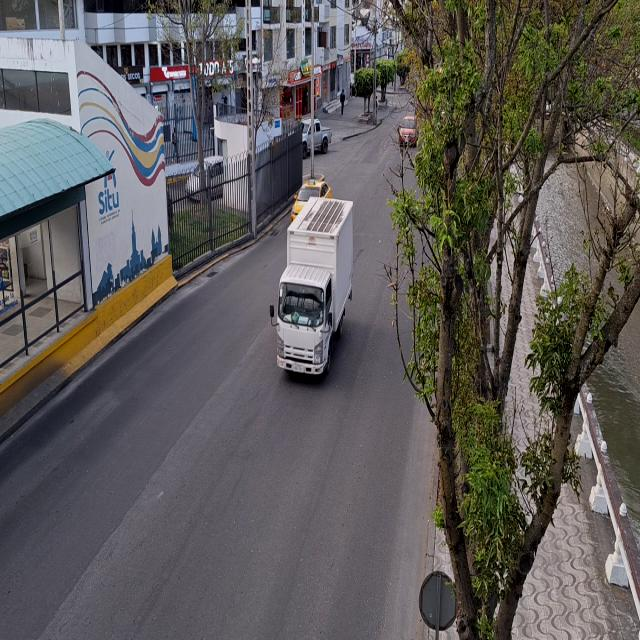TRUCK: (278, 197, 356, 383)
